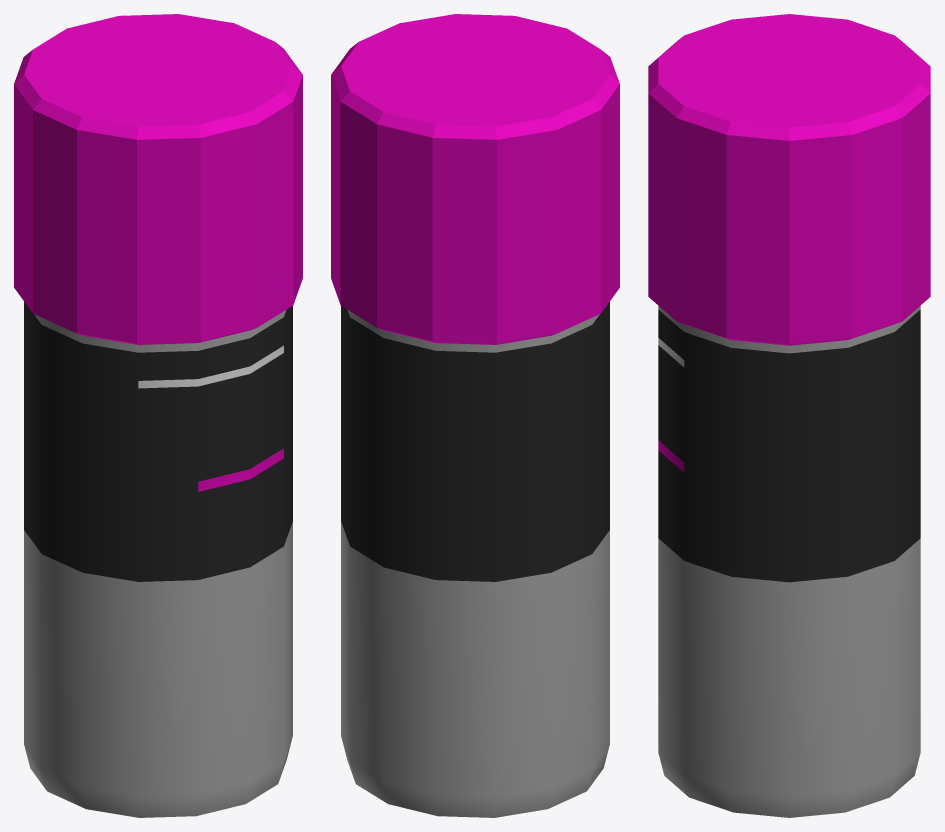
The model's file is SprayPaint_Magenta.fbx.
3 renders of one model, left to right at view 1: azimuth 30°, elevation 25°; view 2: azimuth 150°, elevation 25°; view 3: azimuth 270°, elevation 25°, orthographic.
Visible parts, largest first — view 1: pCylinder2; view 2: pCylinder2; view 3: pCylinder2.
Boxes of the visible parts, x1,y1,x2,y2 form: pCylinder2: (14,14,302,817); pCylinder2: (331,14,619,817); pCylinder2: (648,14,930,817).
Size of the model in its own units: 3.04 by 8.04 by 2.97.
